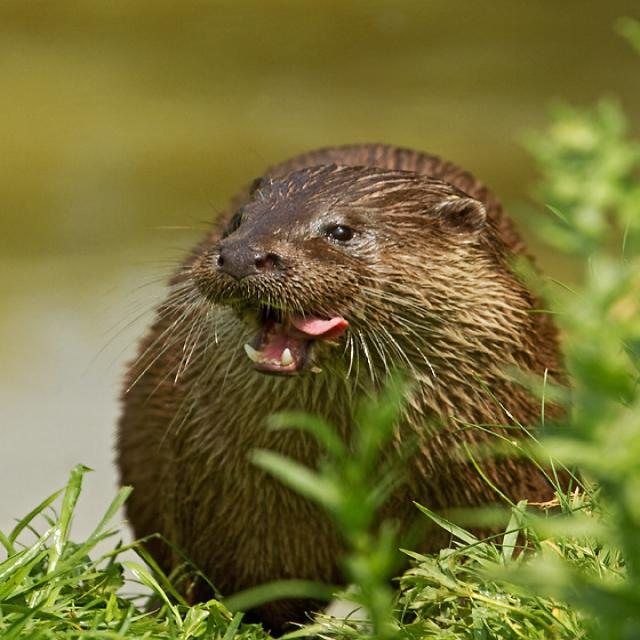otter: (125, 141, 566, 587)
